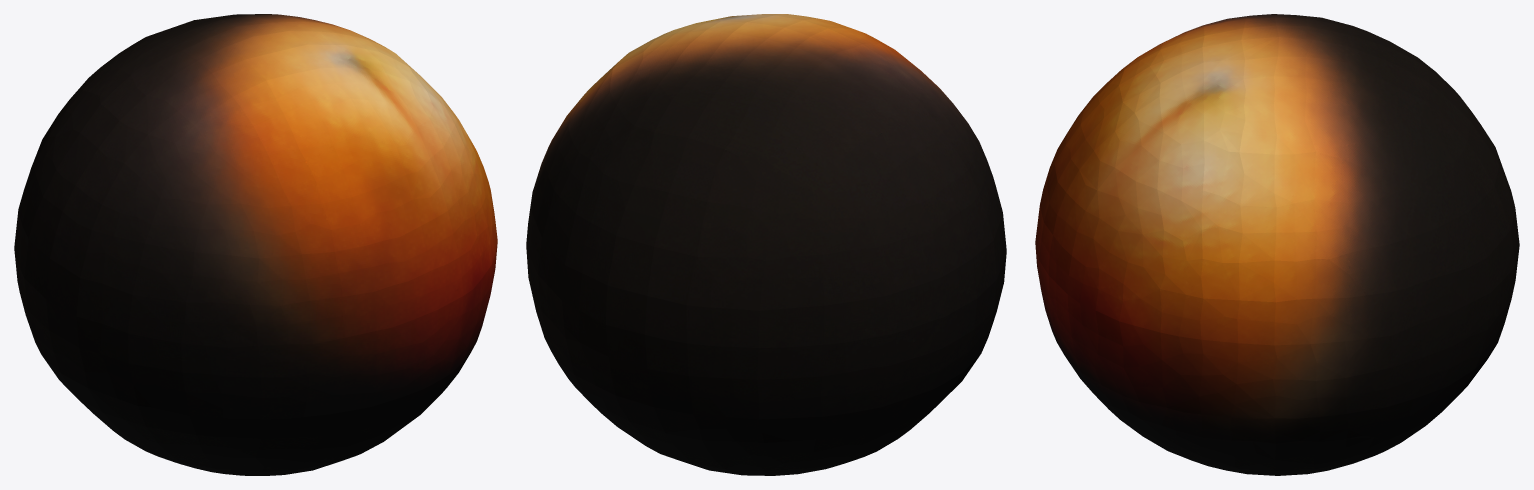
3 views of the same model, side by side, from view 1: azimuth 30°, elevation 25°; view 2: azimuth 150°, elevation 25°; view 3: azimuth 270°, elevation 25° (orthographic).
Visible parts, largest first — view 1: world; view 2: world; view 3: world.
Boxes of the visible parts, x1,y1,x2,y2 form: world: (14, 14, 497, 475); world: (526, 14, 1006, 475); world: (1035, 14, 1519, 475).
Bounding box in the file's own units: 0.3483 × 0.3276 × 0.3485.
1 material, 1 textured.
